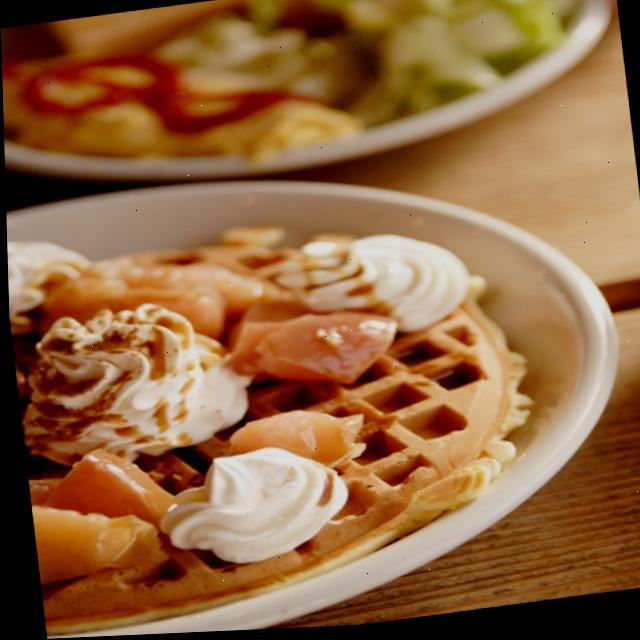炸货点心: (5, 179, 554, 622)
蛋糕甜品: (5, 179, 554, 622)
